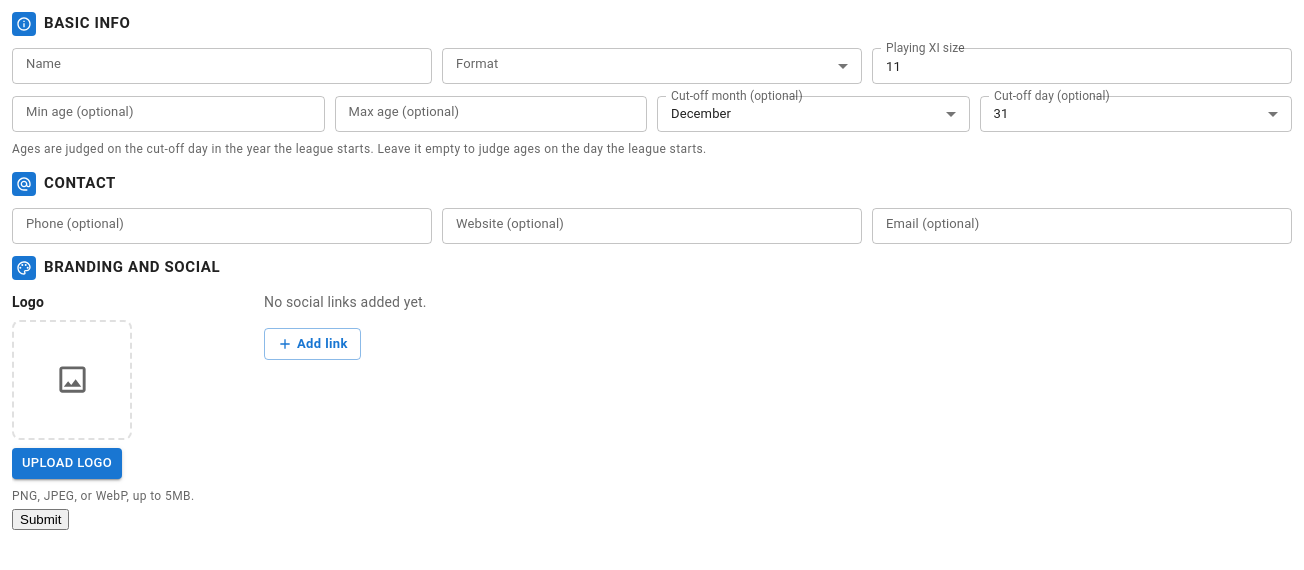
Test: LeagueForm › renders a validation error for a malformed website submitted before the field is blurred (so WebsiteInput has not yet normalized it)
The width and height of the screenshot is (1304, 570).
Type "Vets League" into the field labelled "Name" at (222, 66), box [12,50,432,82]
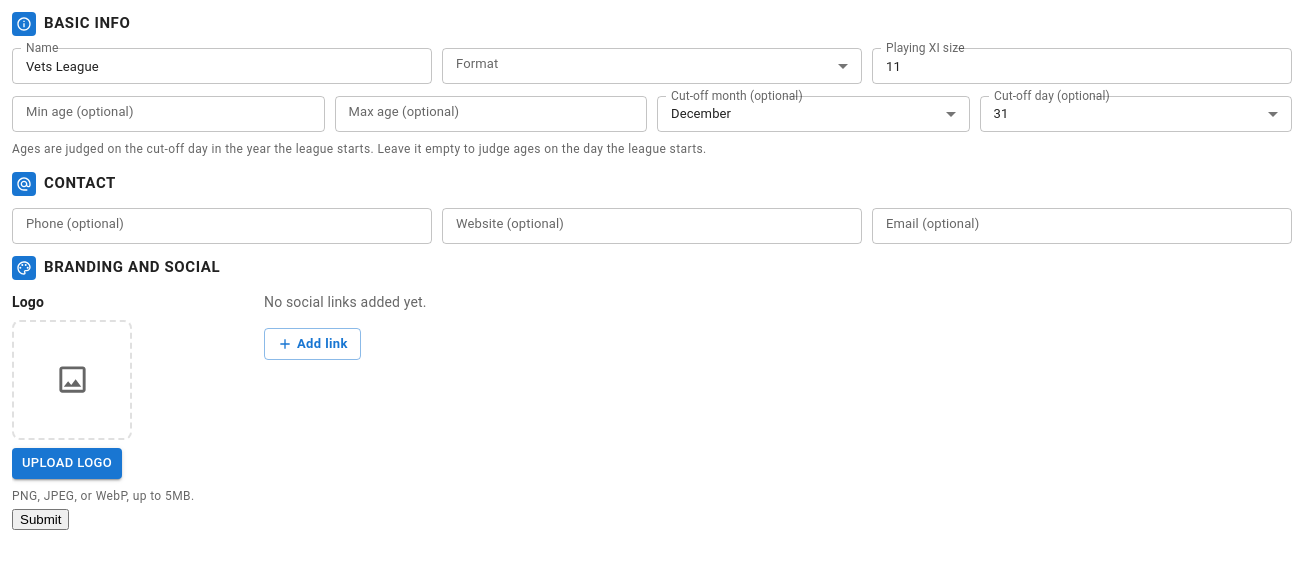
Type "not a url" into the field labelled "Website (optional)" at (652, 226), box [442,210,862,242]
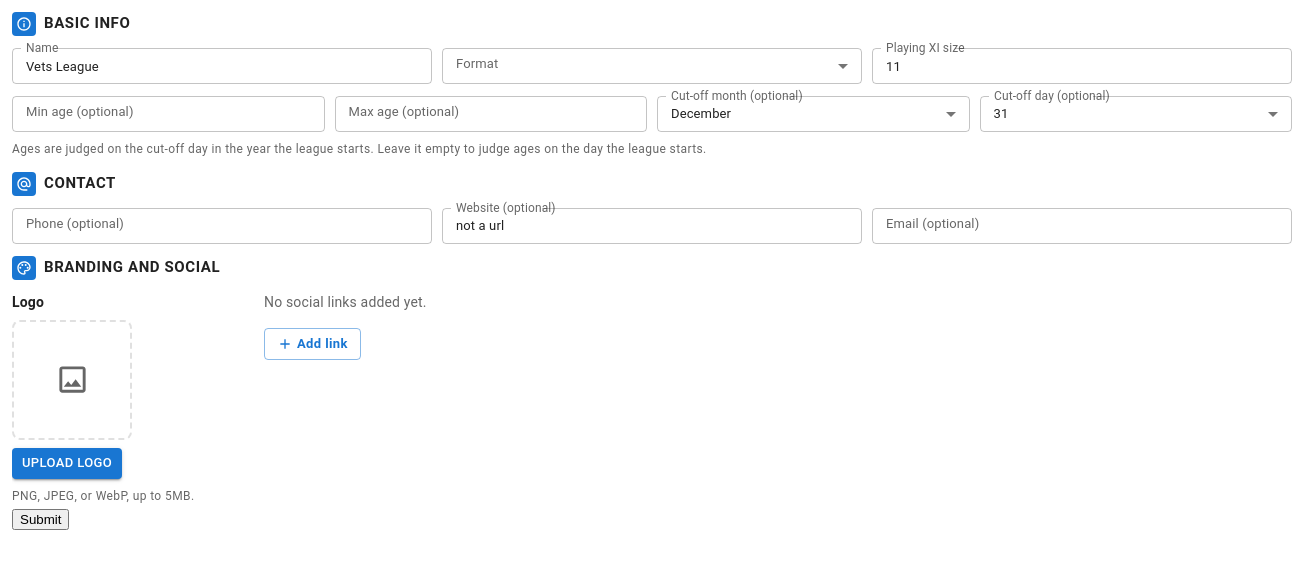
Submit the form named "Website (optional)"
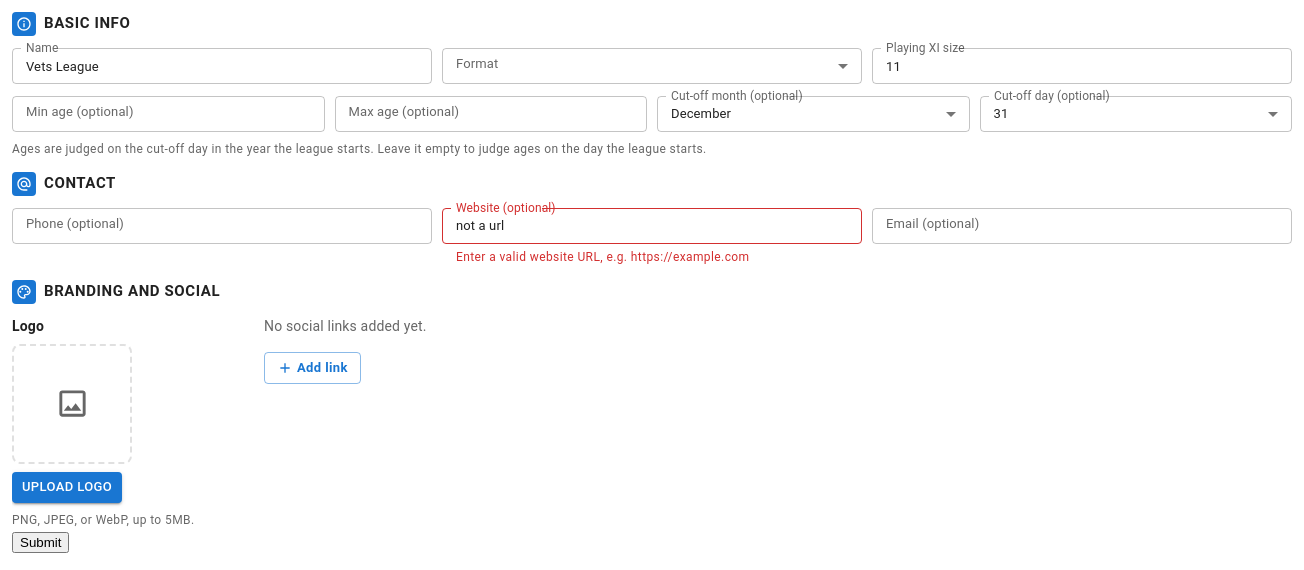
Now the text "Enter a valid website URL, e.g. https://example.com" is shown, box [456,250,750,264]
